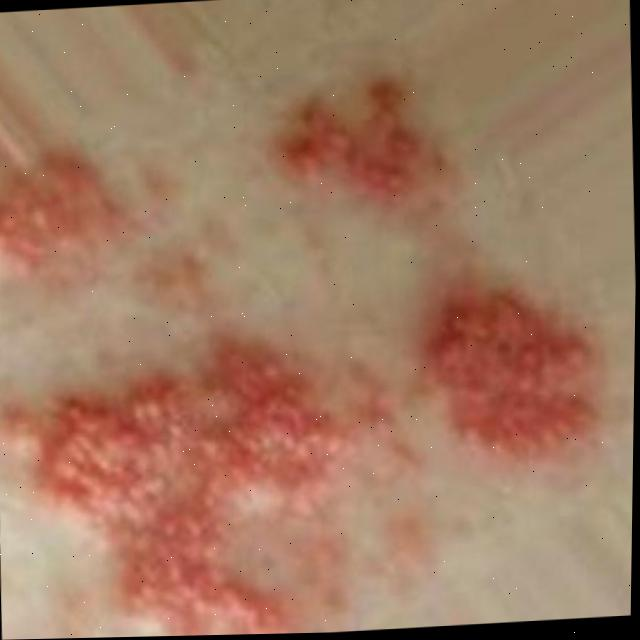Shingles: (0, 358, 359, 640), (409, 286, 610, 470), (267, 71, 427, 202), (0, 152, 127, 295)
